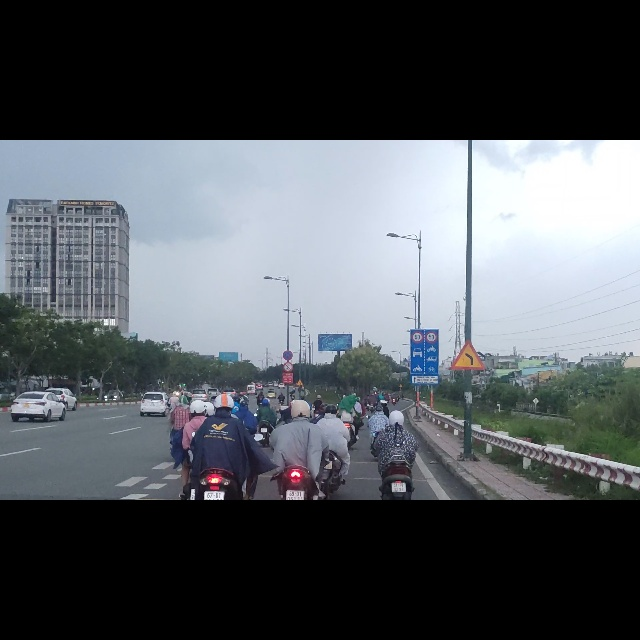bien_nguy_hiem: (450, 353, 486, 412), (411, 339, 424, 361), (425, 339, 438, 361), (282, 372, 293, 393), (282, 393, 293, 412), (296, 424, 304, 437)
